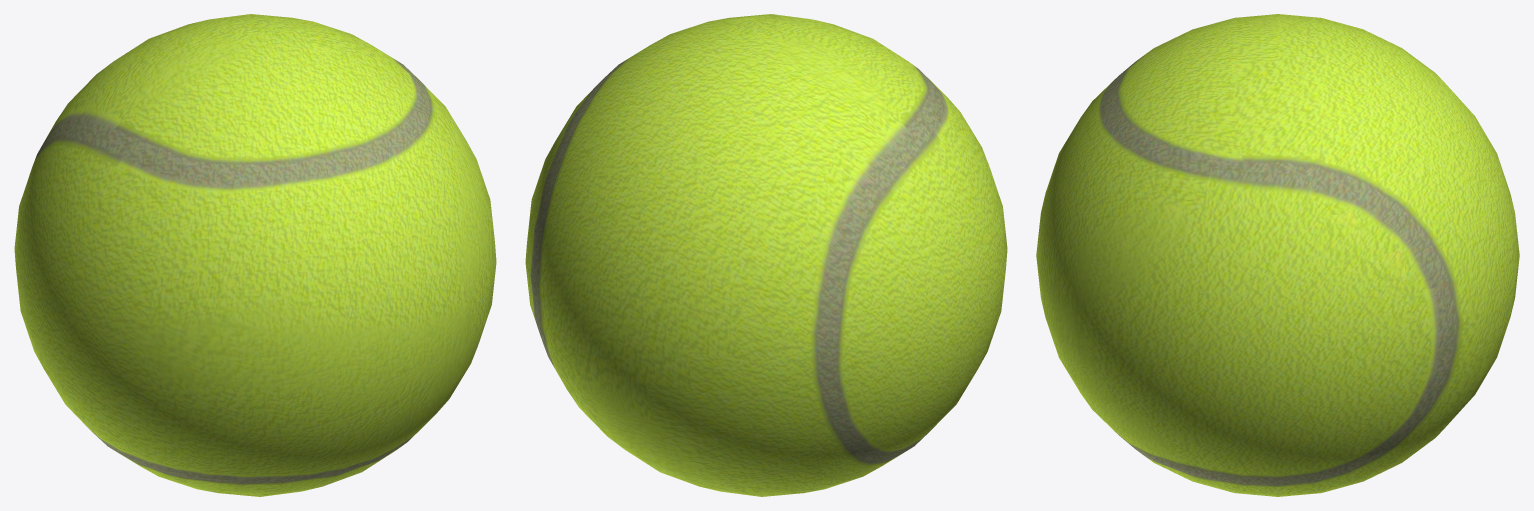
File: tenis.gltf
The picture shows the model from 3 angles, left to right: view 1: azimuth 30°, elevation 25°; view 2: azimuth 150°, elevation 25°; view 3: azimuth 270°, elevation 25°; orthographic projection.
Parts seen in each view (by area): view 1: Sphere.010; view 2: Sphere.010; view 3: Sphere.010.
Part boxes in pixels (x1=…): Sphere.010: x1=14, y1=14, x2=496, y2=496; Sphere.010: x1=525, y1=14, x2=1007, y2=496; Sphere.010: x1=1036, y1=14, x2=1519, y2=496.
Bounding box in the file's own units: 1 × 1 × 1.
1 material, 1 textured.
